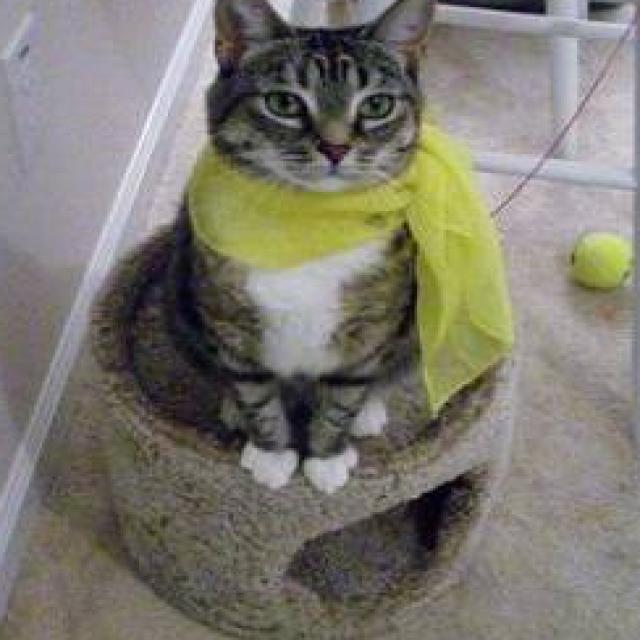Bengal: (136, 0, 516, 507)
